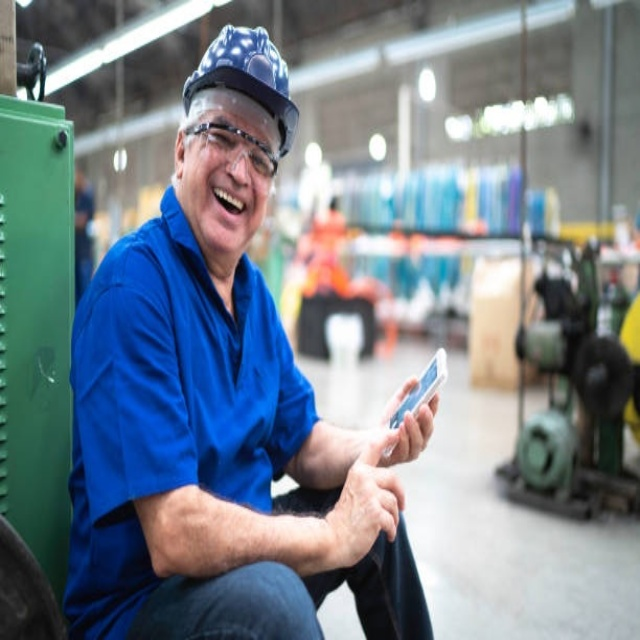Gafas: (182, 115, 279, 184)
Sin_guantes: (327, 442, 409, 560), (376, 379, 438, 468)
Sin_mascara: (204, 177, 253, 253)
